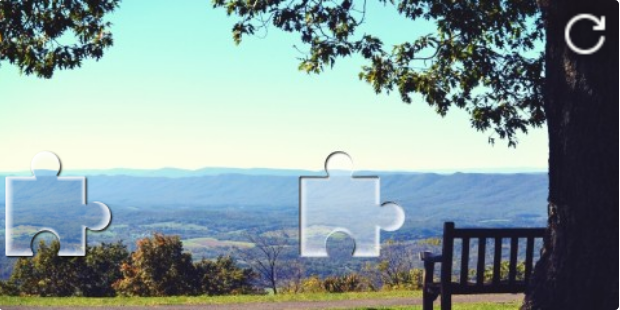target: (299, 151, 404, 258)
